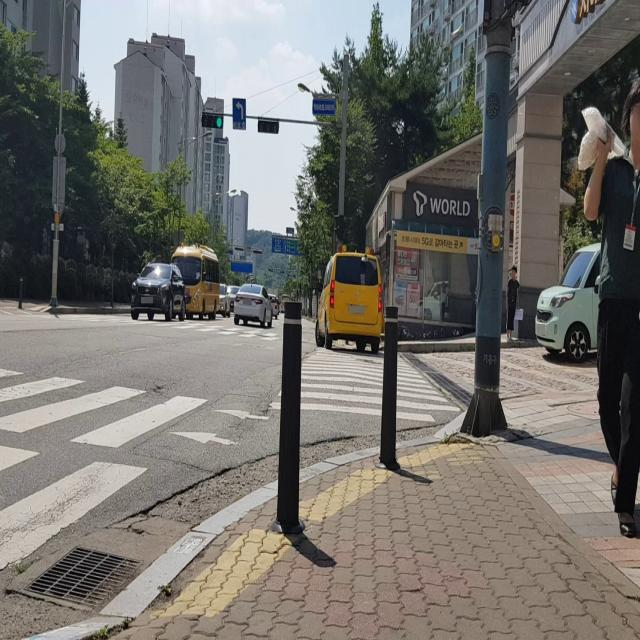횡단보도: (0, 366, 209, 574), (267, 342, 460, 425)
